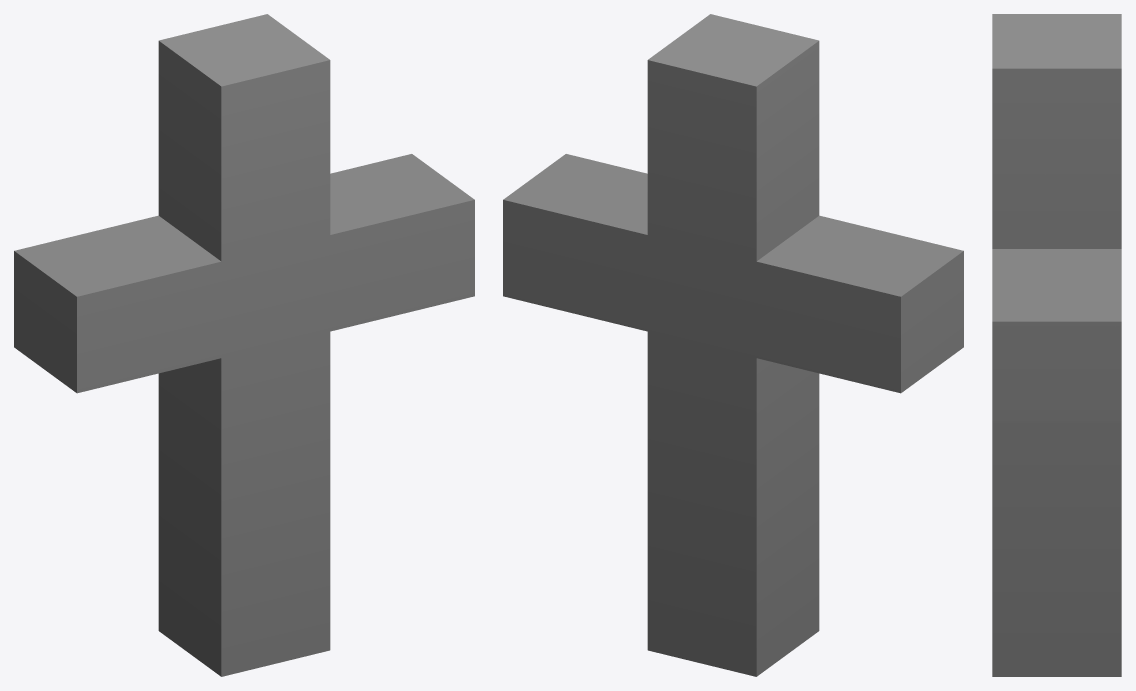
The model's file is grave cross 2.fbx.
The picture shows the model from 3 angles, left to right: view 1: azimuth 30°, elevation 25°; view 2: azimuth 150°, elevation 25°; view 3: azimuth 270°, elevation 25°; orthographic projection. The views are drawn at different scales.
Visible parts, largest first — view 1: grave cross 2; view 2: grave cross 2; view 3: grave cross 2.
Part boxes in pixels (bbox=[...]): grave cross 2: bbox=[14, 14, 474, 676]; grave cross 2: bbox=[503, 14, 963, 676]; grave cross 2: bbox=[992, 14, 1121, 676].
Size of the model in its own units: 103 by 146 by 28.1.
